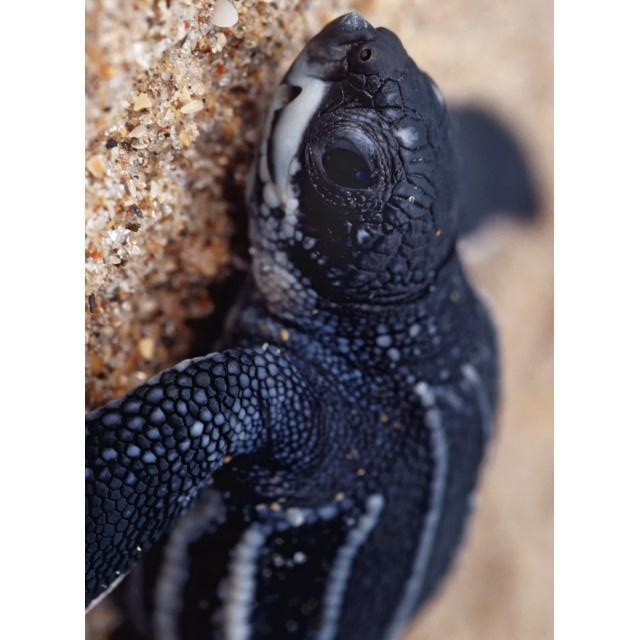turtle: (88, 13, 540, 629)
